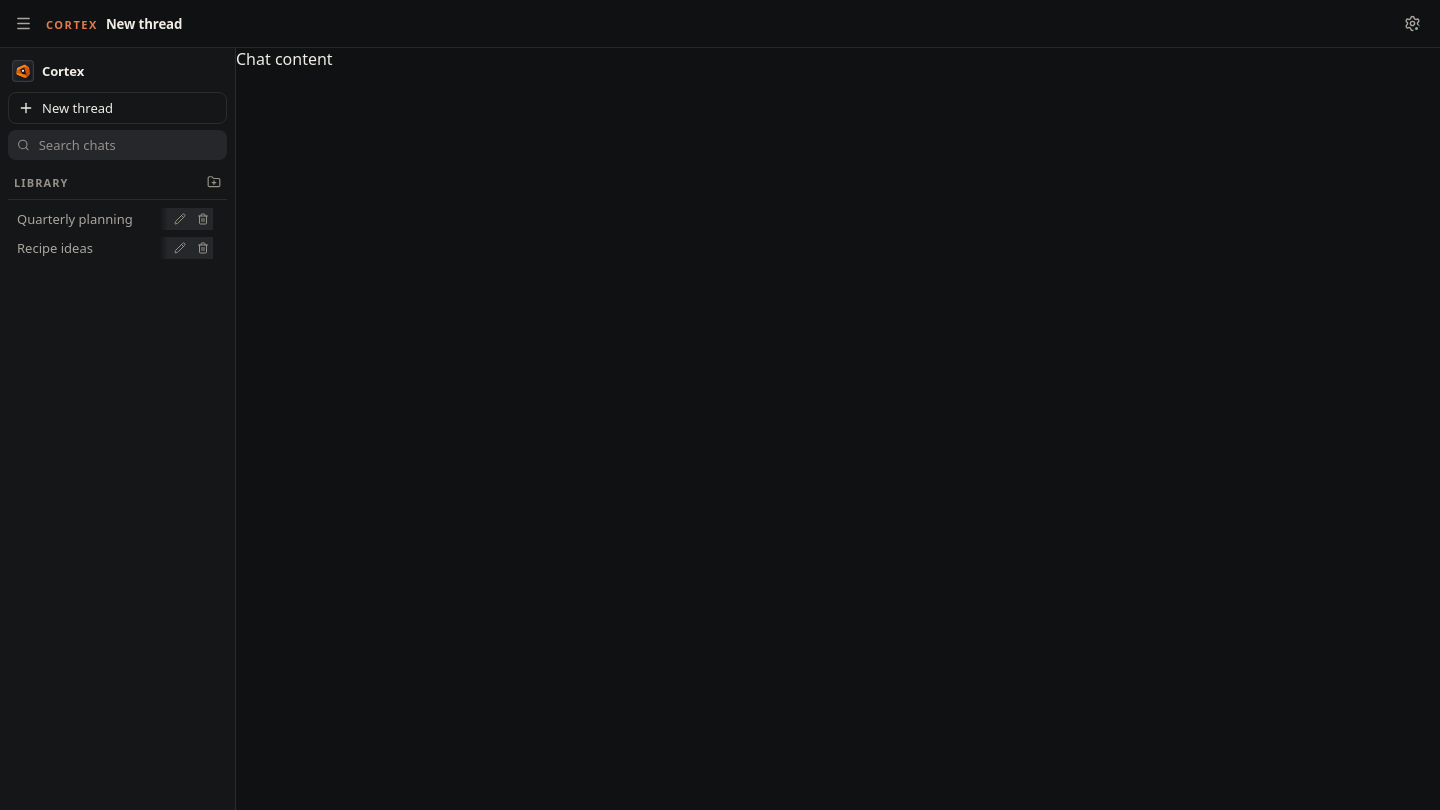
Test case: AppShell › filters the thread list by title as the user types a search query
Expected: the button "Quarterly planning" is shown, [9, 210, 216, 228]
Expected: the button "Recipe ideas" is shown, [9, 239, 216, 257]
Step 1. Type "recipe" into the search field named "Search chats by title" → (127, 145), box [37, 135, 218, 155]
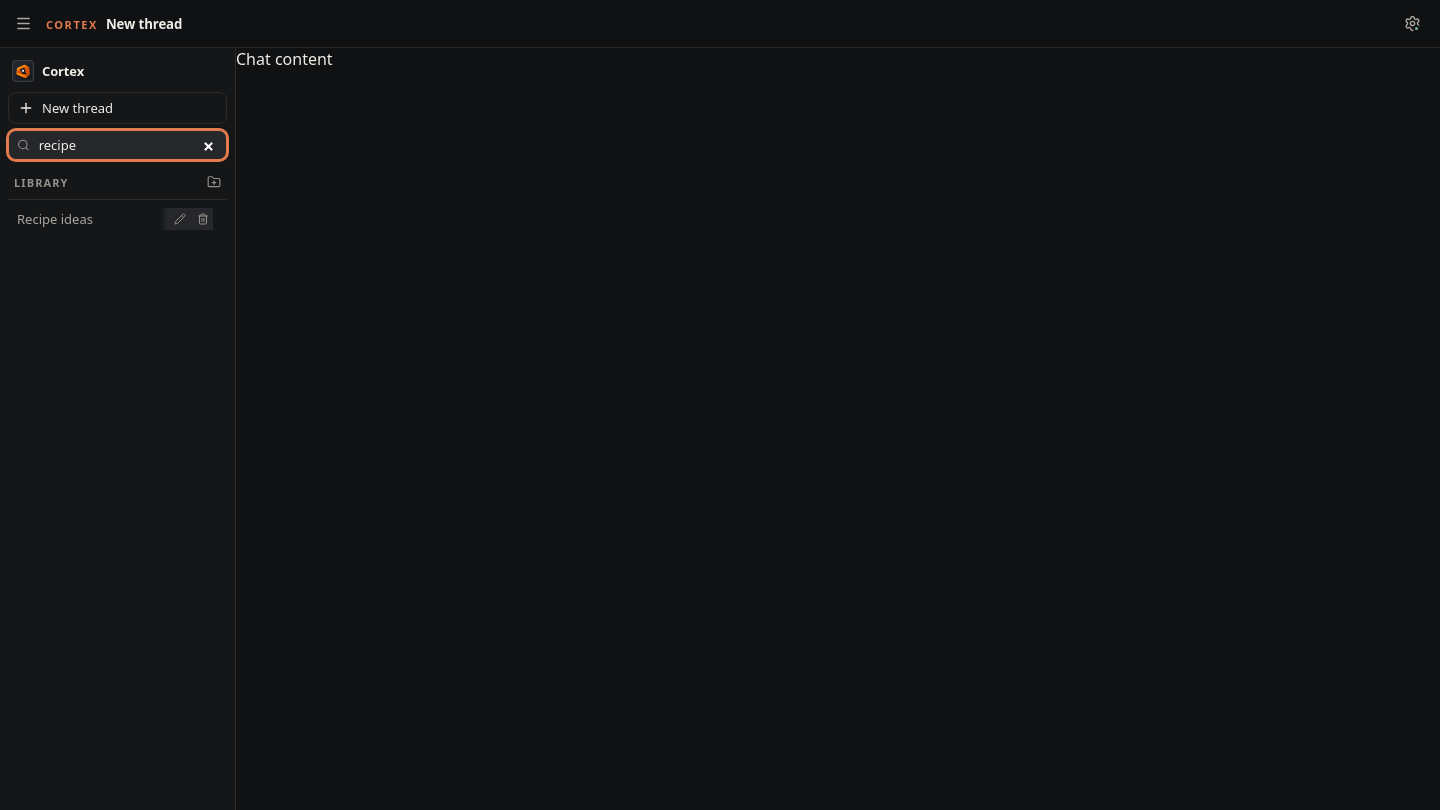
Expected: the button "Recipe ideas" is shown, [9, 210, 216, 228]
Result: the button "Quarterly planning" is gone
Step 2. Replace the text in the search field named "Search chats by title" with "nothing matches this" → (127, 145), box [37, 135, 218, 155]
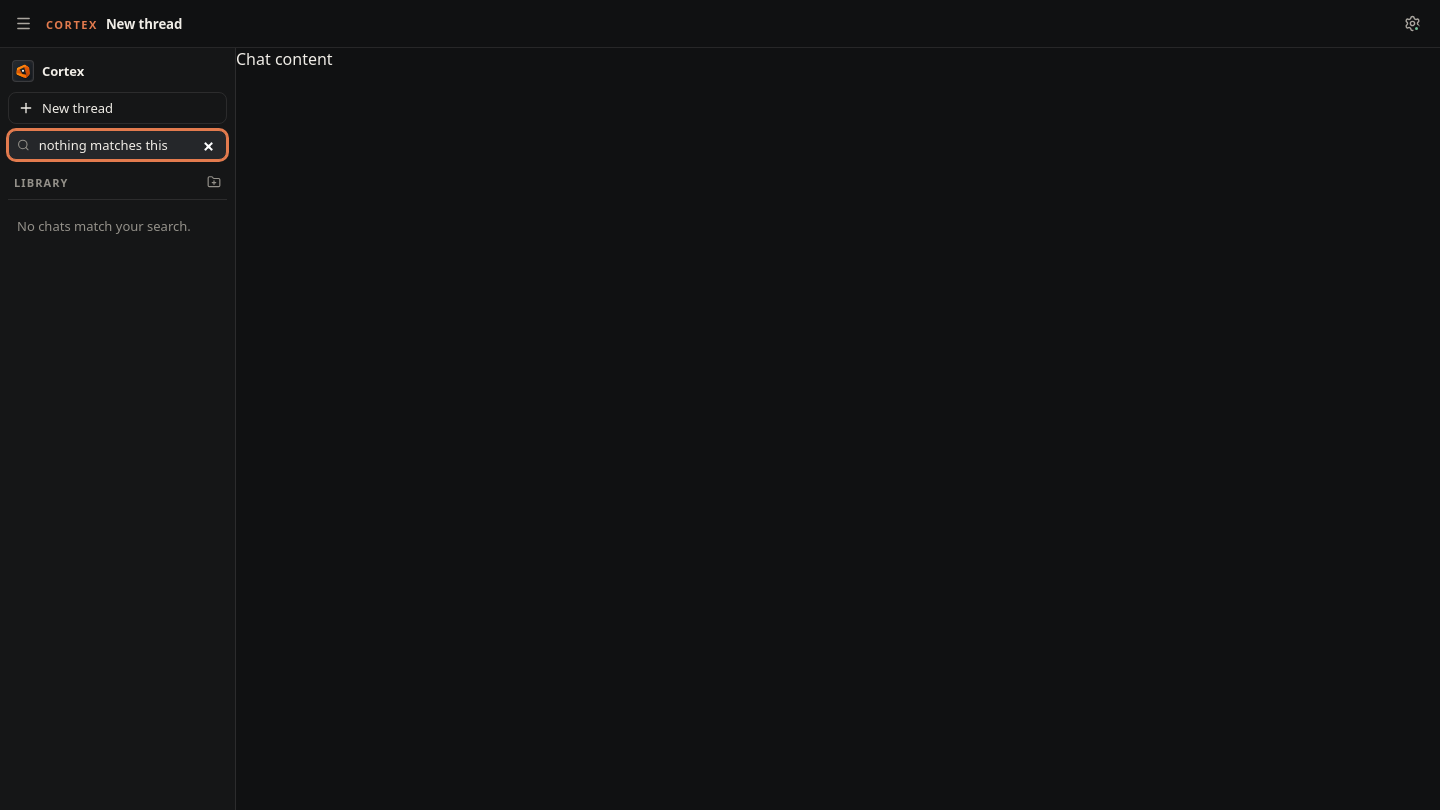
Result: the text "No chats match your search." is shown at [17, 217, 191, 235]
